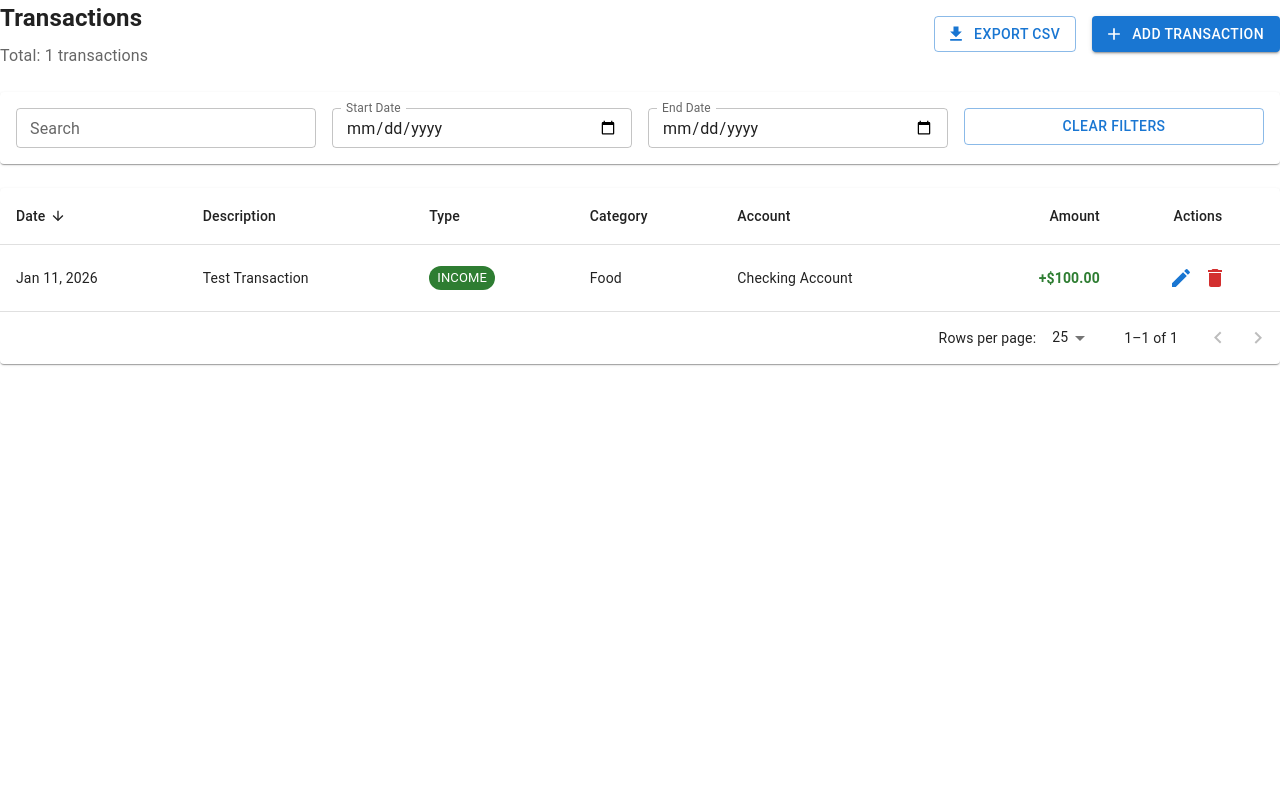
Transactions › Add Transaction Dialog › should display all form fields in dialog
What coordinates should you click on to do the following:
click the button "Add Transaction"
I would click on:
 (1186, 34)
Its box is [1092, 16, 1279, 52].
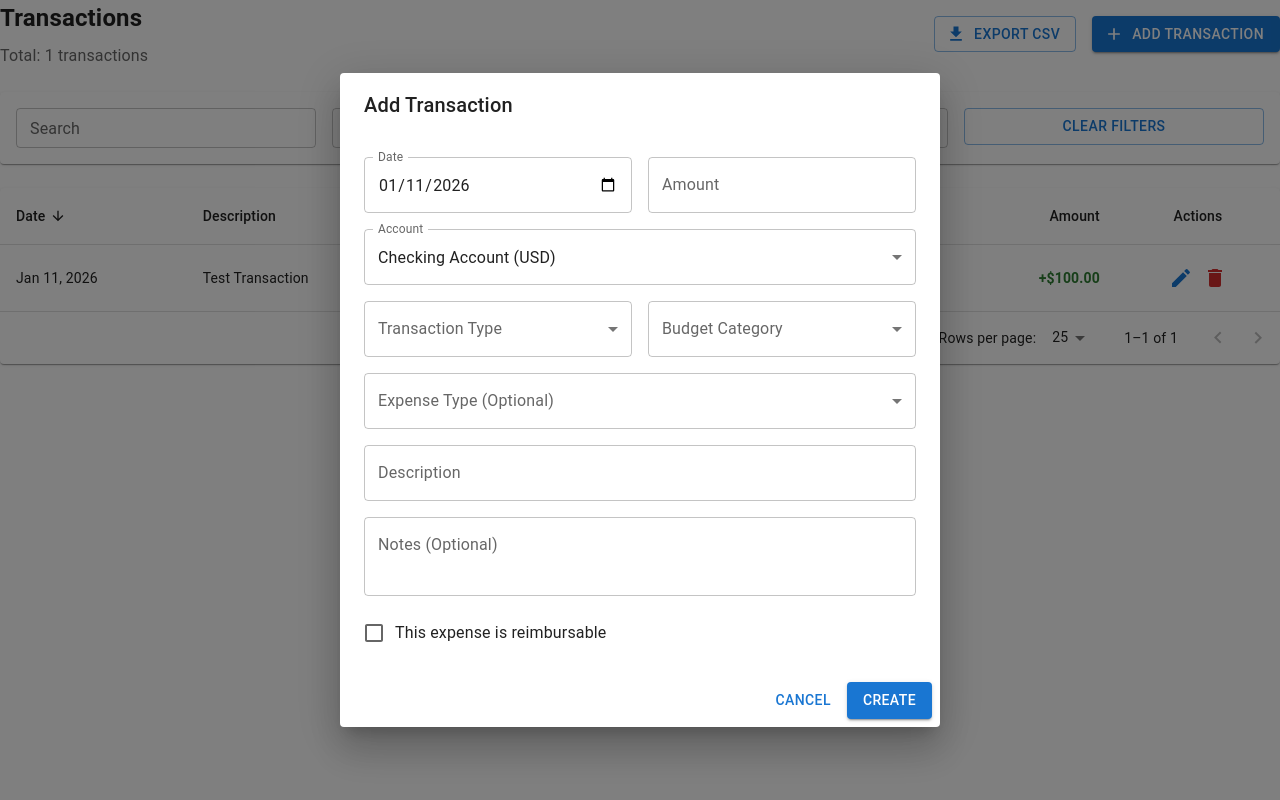
Expected: the date field labelled "Date" is shown, [364, 157, 632, 213]
Expected: the number field labelled "Amount" is shown, [648, 157, 916, 213]
Expected: the dropdown labelled "Account" is shown, [378, 248, 556, 267]
